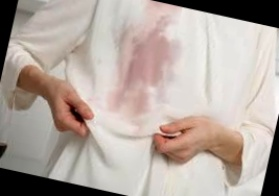wine: (100, 17, 177, 131), (145, 1, 180, 27)
